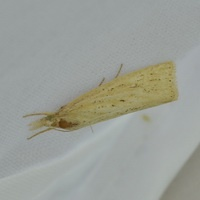insect: (24, 61, 177, 139)
